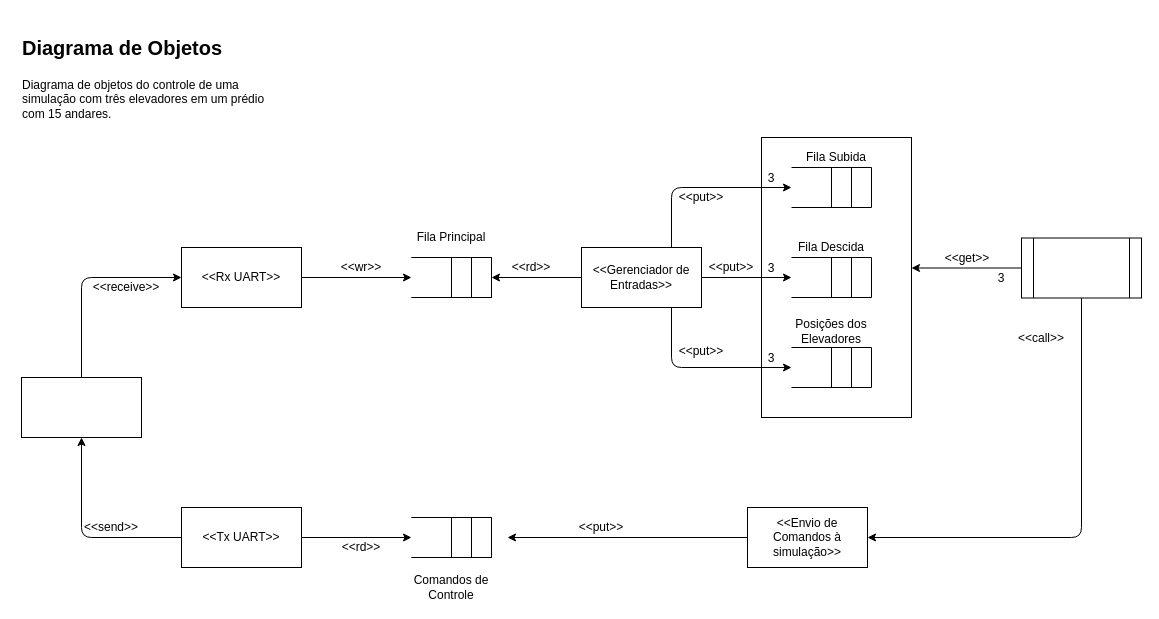
This 1159x619 diagram has some shape labels left out. The shapes that lost their labels are listed below. From the top down, each one's box as (x1, y1, x2, y2) in pixels, then its label:
(1020, 237, 1142, 298): Elevador
(20, 376, 142, 438): <<Simulação>>
